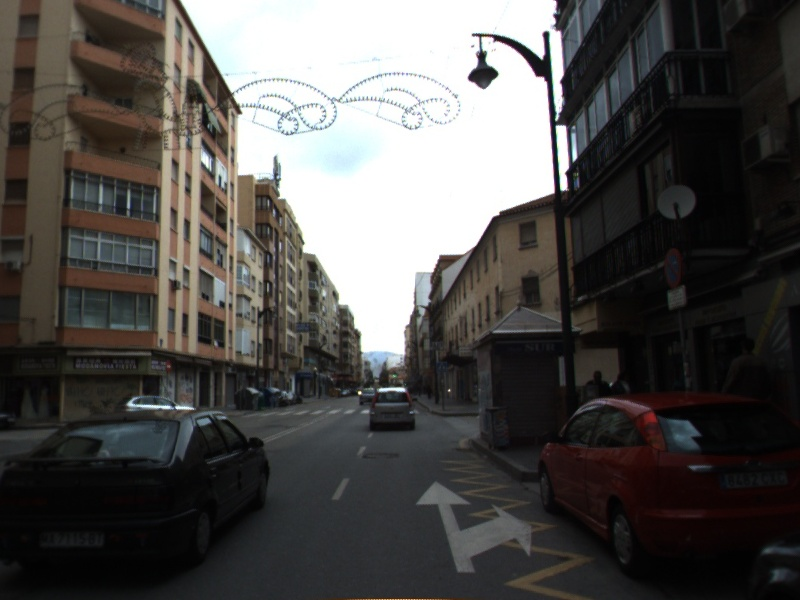STRAIGHT_RIGHT: (411, 477, 535, 577)
